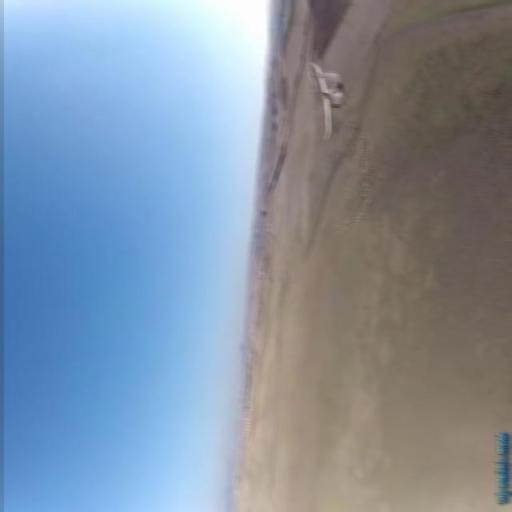uav: (302, 62, 348, 140)
